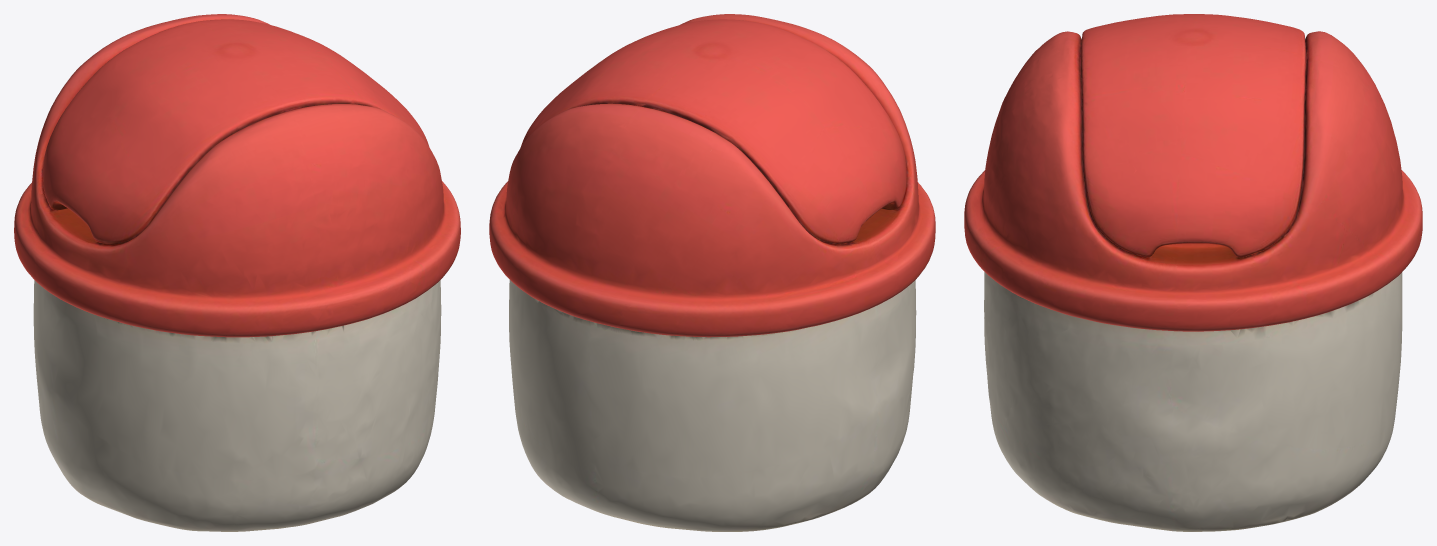
Rendered from KR_사물_s1_trash_bin_old.glb.
3 views of the same model, side by side, from view 1: azimuth 30°, elevation 25°; view 2: azimuth 150°, elevation 25°; view 3: azimuth 270°, elevation 25° (orthographic). The views are drawn at different scales.
Parts seen in each view (by area): view 1: tripo_node_dba559ac-9833-4cfd-9132-9e1b12683dd9; view 2: tripo_node_dba559ac-9833-4cfd-9132-9e1b12683dd9; view 3: tripo_node_dba559ac-9833-4cfd-9132-9e1b12683dd9.
Boxes of the visible parts, x1,y1,x2,y2 form: tripo_node_dba559ac-9833-4cfd-9132-9e1b12683dd9: (14, 14, 460, 531); tripo_node_dba559ac-9833-4cfd-9132-9e1b12683dd9: (489, 14, 935, 531); tripo_node_dba559ac-9833-4cfd-9132-9e1b12683dd9: (964, 14, 1422, 531).
Bounding box in the file's own units: 0.9785 × 1 × 0.9764.
Materials: 1 (1 with a texture image).
